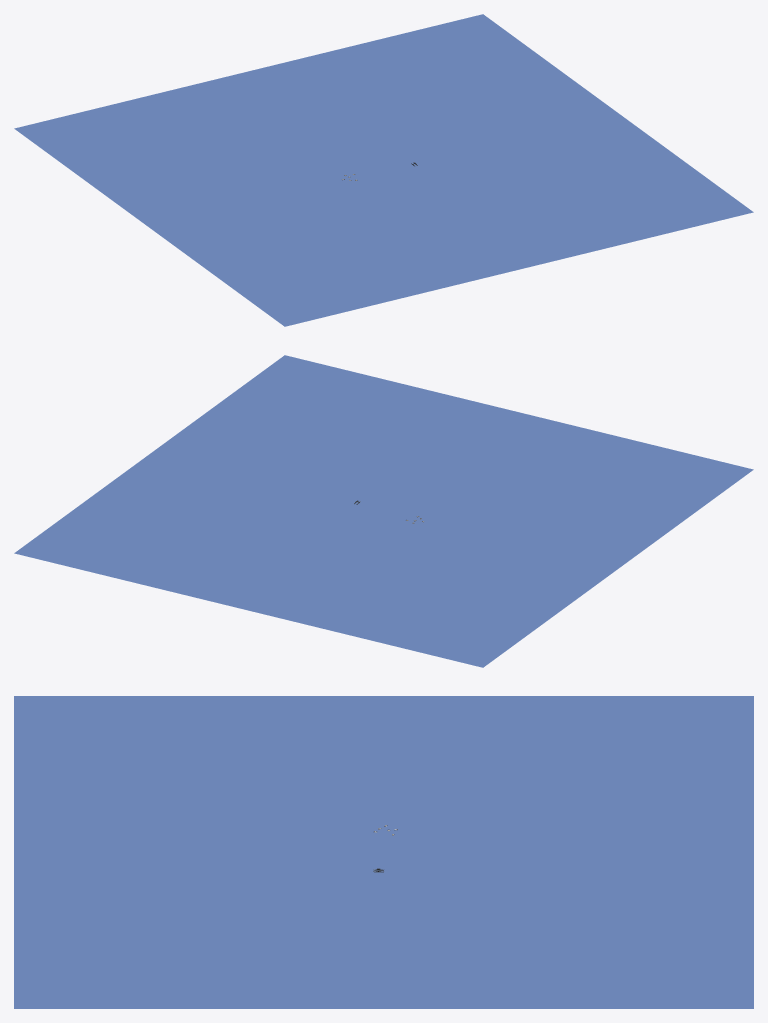
File: RescuePeople.glb
3 renders of one model, top to bottom at view 1: azimuth 30°, elevation 25°; view 2: azimuth 150°, elevation 25°; view 3: azimuth 270°, elevation 25°, orthographic. The views are drawn at different scales.
Parts seen in each view (by area): view 1: Plane013; view 2: Plane013; view 3: Plane013.
Part boxes in pixels (<box>): Plane013: <box>14,14,753,326</box>; Plane013: <box>14,355,753,667</box>; Plane013: <box>14,696,753,1008</box>.
Size of the model in its own units: 1742 by 8.34 by 1742.
11 materials, 9 textured.
